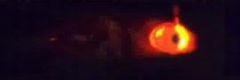keyhole: (169, 31, 182, 45)
